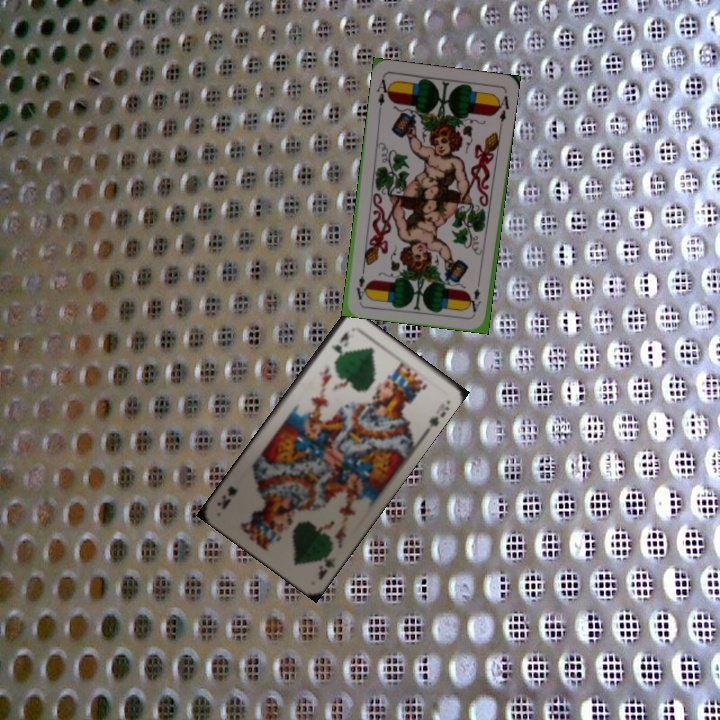EA: (372, 74, 393, 108), (468, 276, 484, 315)
GK: (314, 544, 339, 582), (327, 326, 352, 356)
